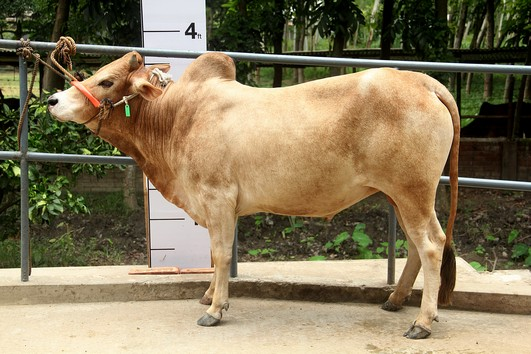cow: (36, 41, 466, 337)
